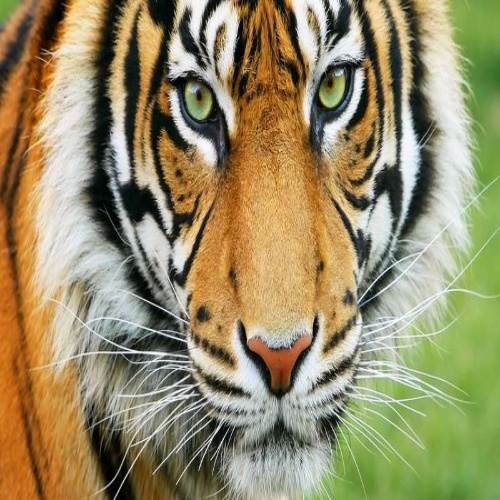tiger: (53, 5, 384, 481)
